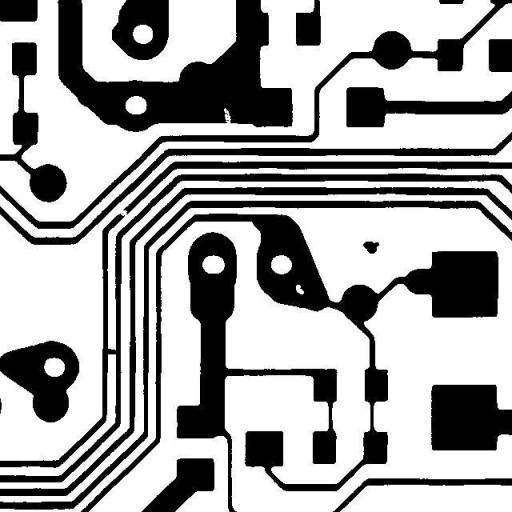copper: (356, 234, 386, 260)
mousebite: (216, 100, 238, 131)
open: (110, 202, 134, 224)
pin-hole: (288, 276, 311, 302)
short: (94, 340, 128, 362)
